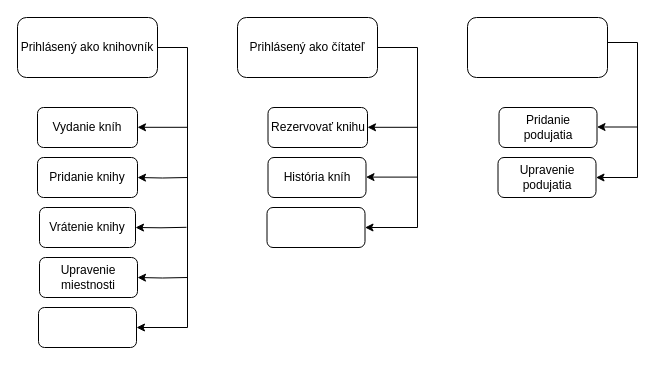
This 663x365 diagram has some shape labels left out. The shapes that lost their labels are listed below. From the top down, each one's centre as x and y in pixels, then its label:
the point at 537,47: Prihlásený ako organizátor
the point at 315,227: Kalendár podujatí
the point at 87,327: Nevrátené knihy
